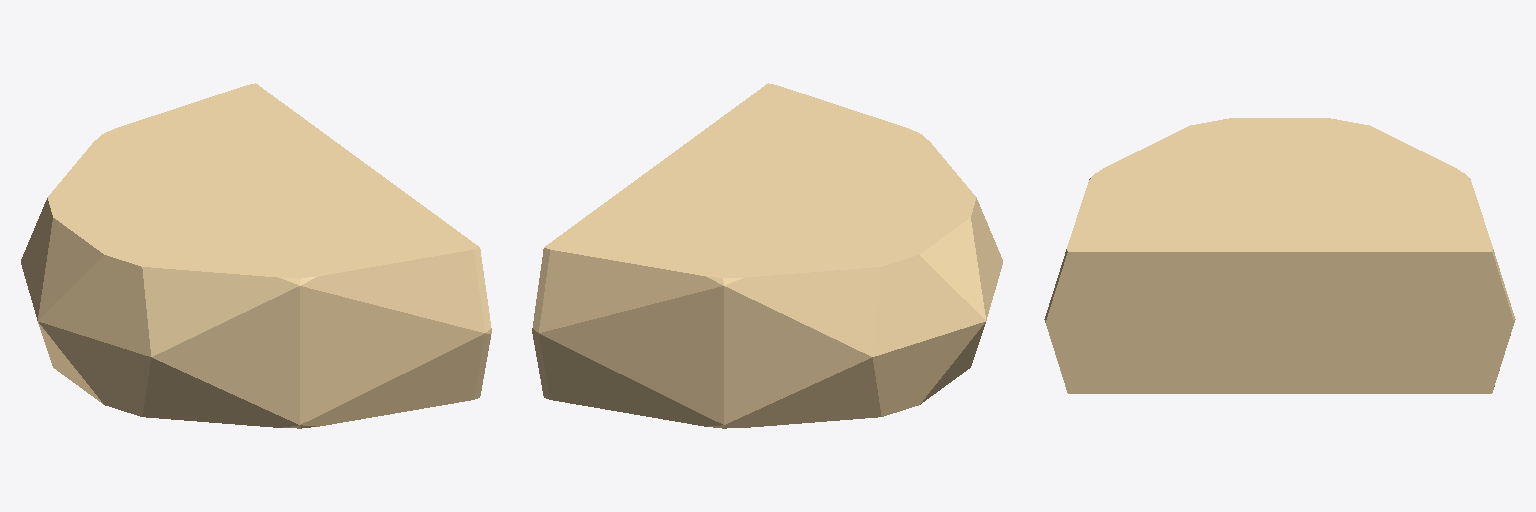
The robot description file, URDF, robot "potato5":
<?xml version="1.0"?>
<robot name="potato5"
       xmlns:xi="http://www.w3.org/2001/XInclude">
  <gazebo>
    <static>false</static>
  </gazebo>
  <link name="nil_link">
    <visual>
      <origin xyz="0 0 0" rpy="0 -0 0"/>
      <geometry>
        <mesh filename="model://potato5/meshes/nil_link_mesh.dae" scale="1 1 1" />
      </geometry>
    </visual>
    <collision>
      <origin xyz="0 0 0" rpy="0 -0 0"/>
      <geometry>
        <mesh filename="model://potato5/meshes/nil_link_mesh.dae" scale="1 1 1" />
      </geometry>
    </collision>
    <inertial>
      <mass value="0.001" />
      <origin xyz="0 0 0" rpy="0 -0 0"/>
      <inertia ixx="1e-03" ixy="0" ixz="0" iyy="1e-03" iyz="0" izz="1e-03"/>
    </inertial>
  </link>
  <gazebo reference="nil_link">
    <mu1>0.9</mu1>
    <mu2>0.9</mu2>
  </gazebo>
</robot>

--- Render facts (derived) ---
Views: 3 orthographic renders of the robot side by side, from view 1: azimuth 30°, elevation 25°; view 2: azimuth 150°, elevation 25°; view 3: azimuth 270°, elevation 25°.
Model potato5 with 1 links and 0 joints (none), rooted at nil_link, posed every joint at zero.
Visible links, largest first — view 1: nil_link; view 2: nil_link; view 3: nil_link.
Boxes of the visible links, box(x1,y1,x2,y2) form: nil_link: box(21, 83, 491, 428); nil_link: box(532, 83, 1002, 428); nil_link: box(1044, 118, 1515, 393).
Size in the robot's own frame: 0.046 by 0.06 by 0.02 metres.
Meshes: 1 distinct files referenced, 1 mesh visuals loaded (1 Collada DAE).